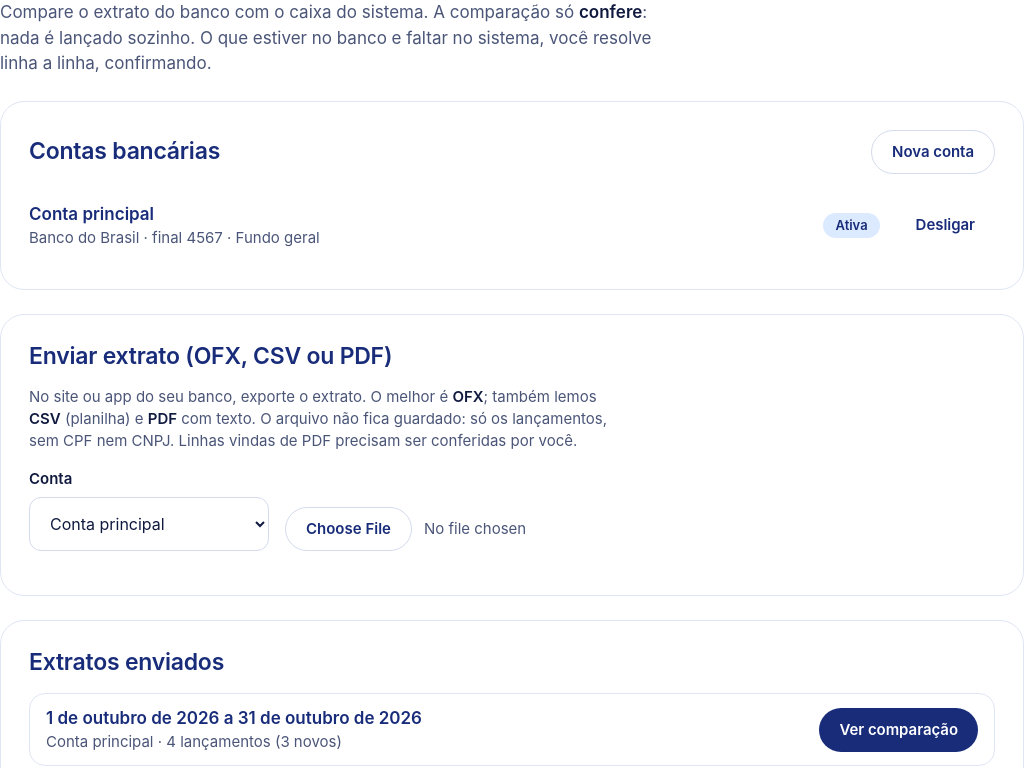
Test: datas do extrato › uma saida que e dinheiro da outra carteira aparece como aviso, dita pela despesa
Click the button with aria-label "Ver a comparação do extrato".
click(899, 730)  # box [819,708,978,752]
(page scrolled)
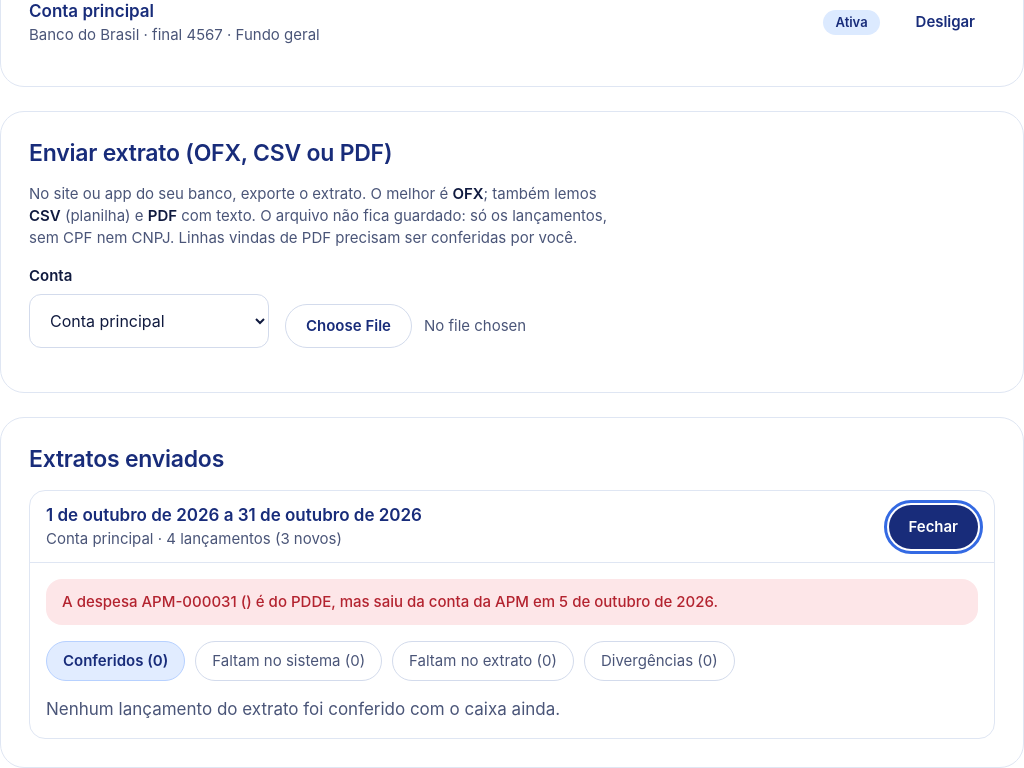
Expected: the list named "Saiu da conta errada" shows "A despesa APM-000031", [46,579,978,625]
Expected: the list named "Saiu da conta errada" shows "é do PDDE, mas saiu da conta da APM", [46,579,978,625]
